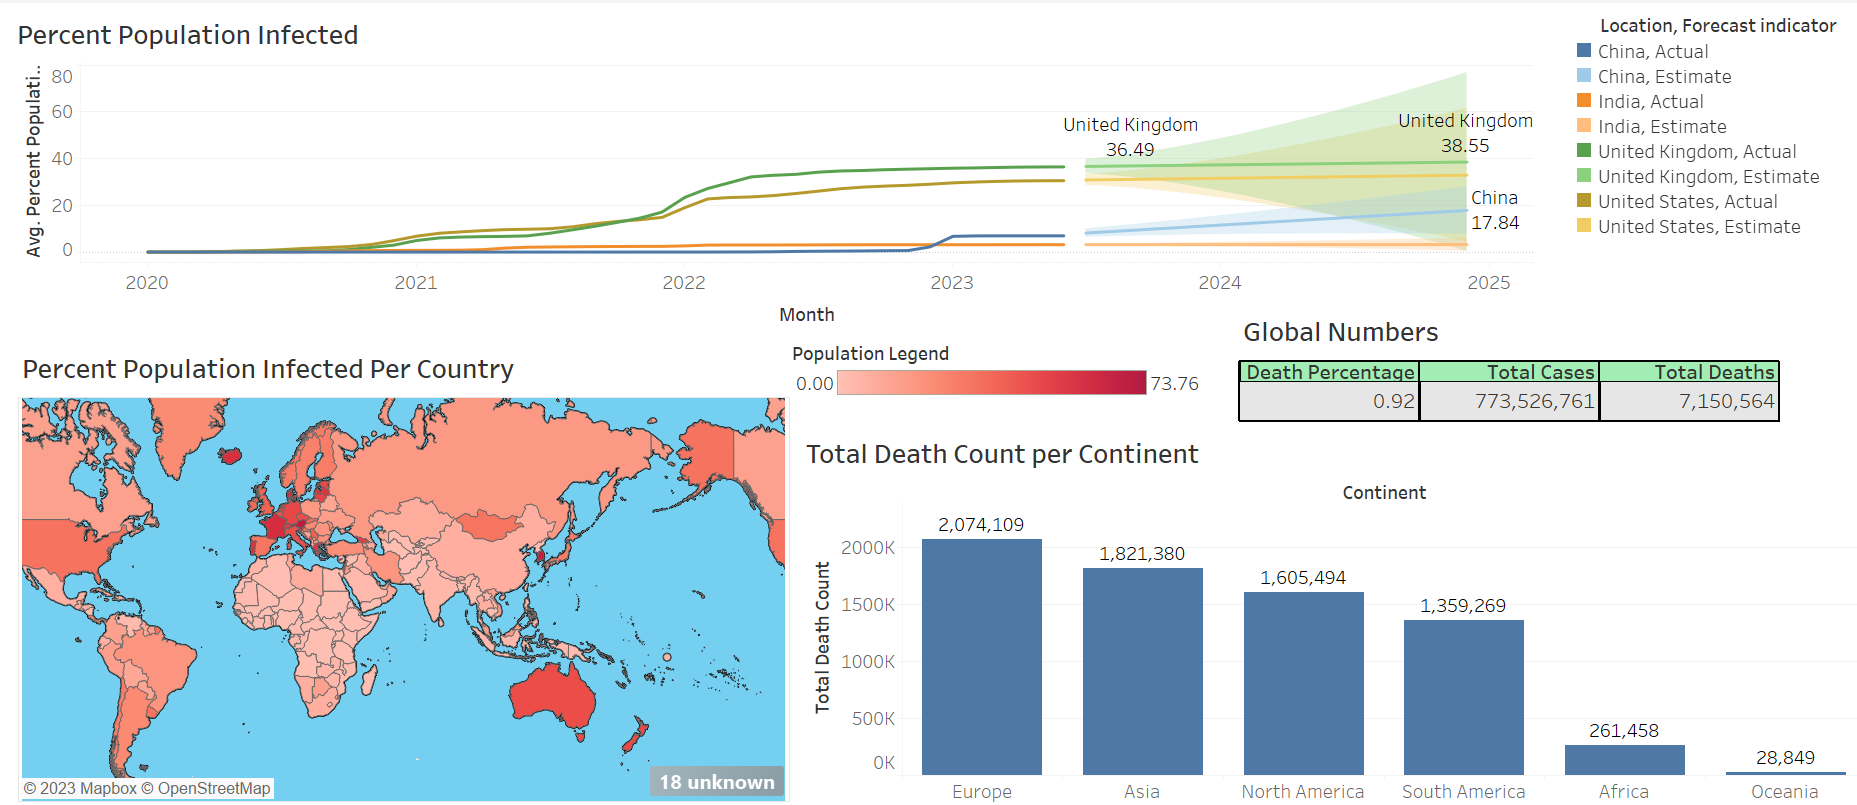

What the dashboard file says about the page in this screenshot:
{"tool":"tableau","page":{"name":"Dashboard 1","canvas":[1000,1000],"units":"permille","ordinal":0},"visuals":[{"type":"worksheet","title":"Sheet 4","mark":"Automatic","rows":["PercentPopulationInfected"],"cols":["date"],"box":[8,11.2,808.2,398.3]},{"type":"legend","title":"Sheet 4","param":"[federated.0z1lw5j03xx5g716z9pu307pjsq1].[none:Location:nk]\n[federated.0z1lw5j03","box":[836.5,11.2,155.5,299]},{"type":"worksheet","title":"Sheet 1","mark":"Automatic","box":[658.9,379.7,344.8,141.4]},{"type":"worksheet","title":"Sheet 3","mark":"Automatic","box":[10.5,400.7,410.6,590.6]},{"type":"legend","title":"Sheet 3","param":"[federated.1h8ad1a010ex1n15vtptl0ptyxd0].[sum:PercentPopulationInfected:qk]","box":[421.6,418.1,218.8,85.6]},{"type":"worksheet","title":"Sheet 2","mark":"Automatic","rows":["TotalDeathCount"],"cols":["location"],"box":[427.2,531,565.5,461.5]}]}

Visuals, with their boxes on the dashboard's canvas, which has no fixed pixel size, in thousandths of its width and height (x1, y1, x2, y2). These are canvas units, not pixel positions in the 1857x805 screenshot, which may show the page scaled, cropped or inside an application window:
"Sheet 4" worksheet: detection(8, 11, 816, 410)
"Sheet 4" legend: detection(836, 11, 992, 310)
"Sheet 1" worksheet: detection(659, 380, 1004, 521)
"Sheet 3" worksheet: detection(10, 401, 421, 991)
"Sheet 3" legend: detection(422, 418, 640, 504)
"Sheet 2" worksheet: detection(427, 531, 993, 992)
